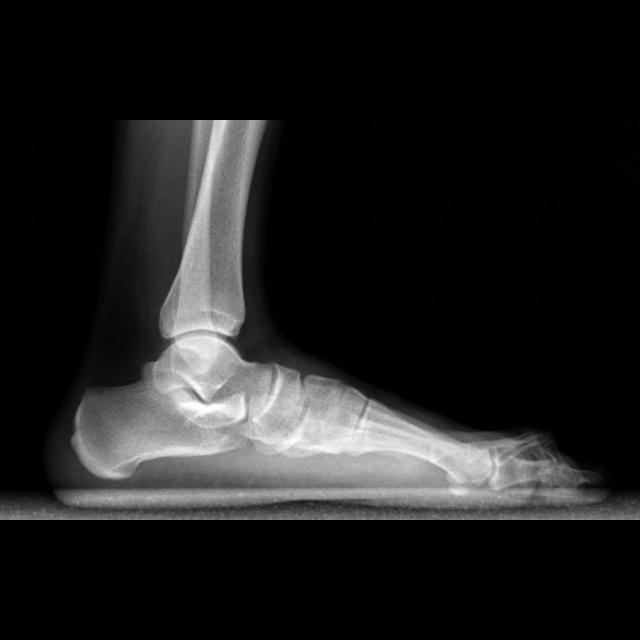a: (71, 374, 251, 479)
b: (251, 363, 304, 441)
c: (348, 394, 492, 484)
